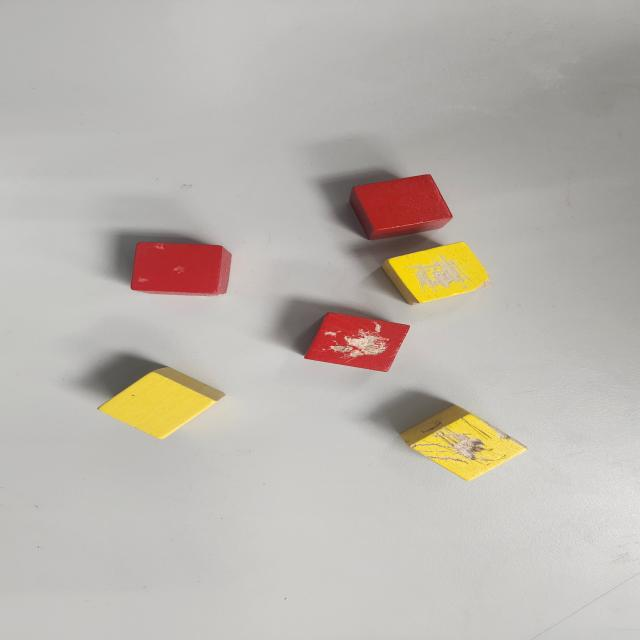broken: (399, 406, 528, 484), (382, 240, 495, 304), (305, 313, 409, 371), (129, 241, 231, 297)
red: (348, 175, 453, 240)
yellow: (97, 366, 228, 441)
